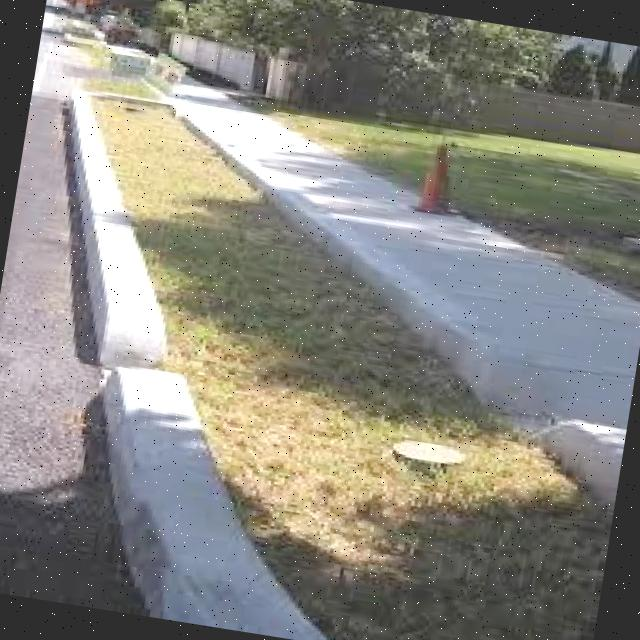curb: (64, 376, 332, 634), (19, 102, 194, 360)
